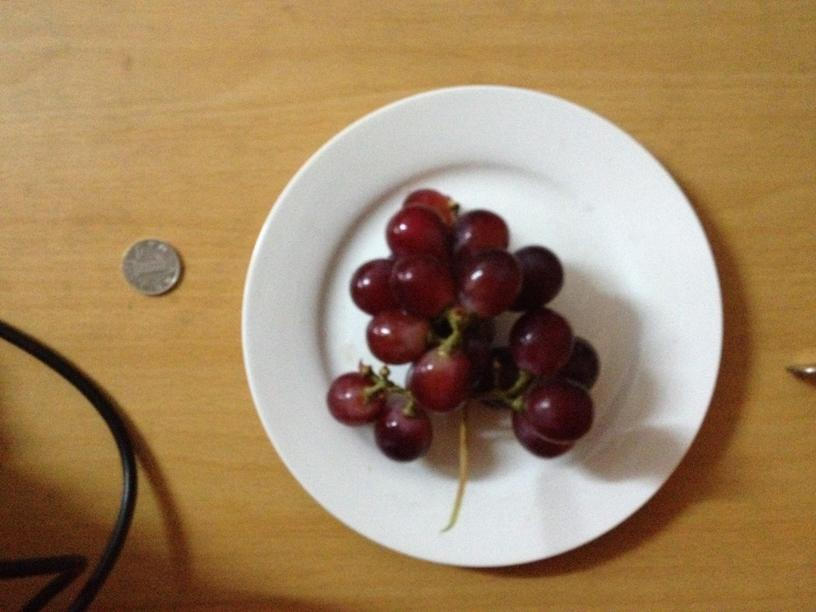coin: (120, 239, 182, 294)
grape: (316, 182, 601, 461)
